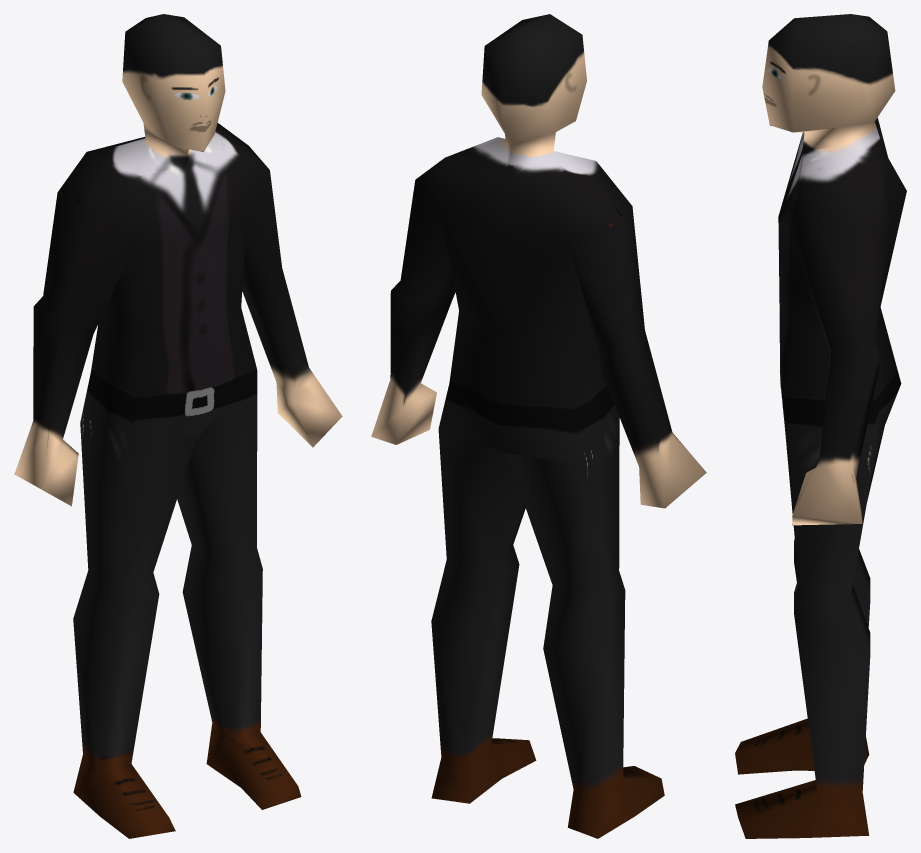
The model's file is tony.obj.
3 renders of one model, left to right at view 1: azimuth 30°, elevation 25°; view 2: azimuth 150°, elevation 25°; view 3: azimuth 270°, elevation 25°, orthographic. The views are drawn at different scales.
Parts seen in each view (by area): view 1: Cube.001; view 2: Cube.001; view 3: Cube.001.
Part boxes in pixels (x1,y1,x2,y2): Cube.001: (14,14,342,838); Cube.001: (371,14,706,838); Cube.001: (735,14,906,838).
Size of the model in its own units: 0.8065 by 1.97 by 0.3919.
